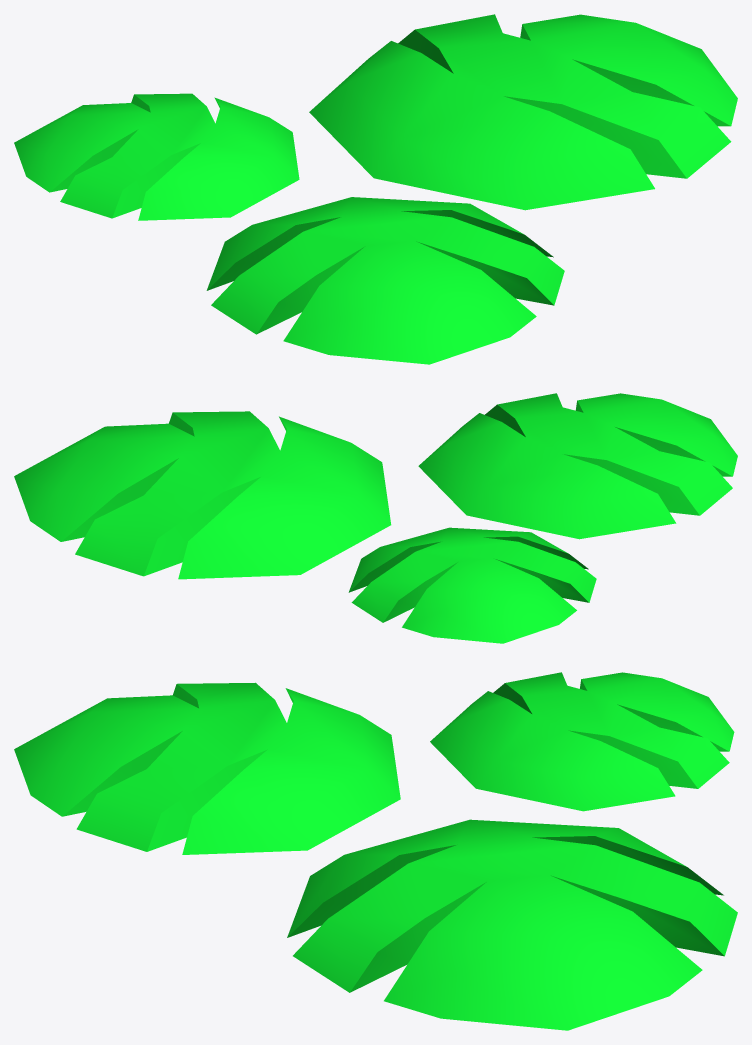
Rendered from winter_grass_3.fbx.
The picture shows the model from 3 angles, top to bottom: view 1: azimuth 30°, elevation 25°; view 2: azimuth 150°, elevation 25°; view 3: azimuth 270°, elevation 25°; orthographic projection. The views are drawn at different scales.
Parts seen in each view (by area): view 1: Object001; view 2: Object001; view 3: Object001.
Boxes of the visible parts, <box> form: Object001: <box>14,14,737,364</box>; Object001: <box>14,393,737,643</box>; Object001: <box>14,672,737,1030</box>.
Bounding box in the file's own units: 7.14 × 0.616 × 6.49.
